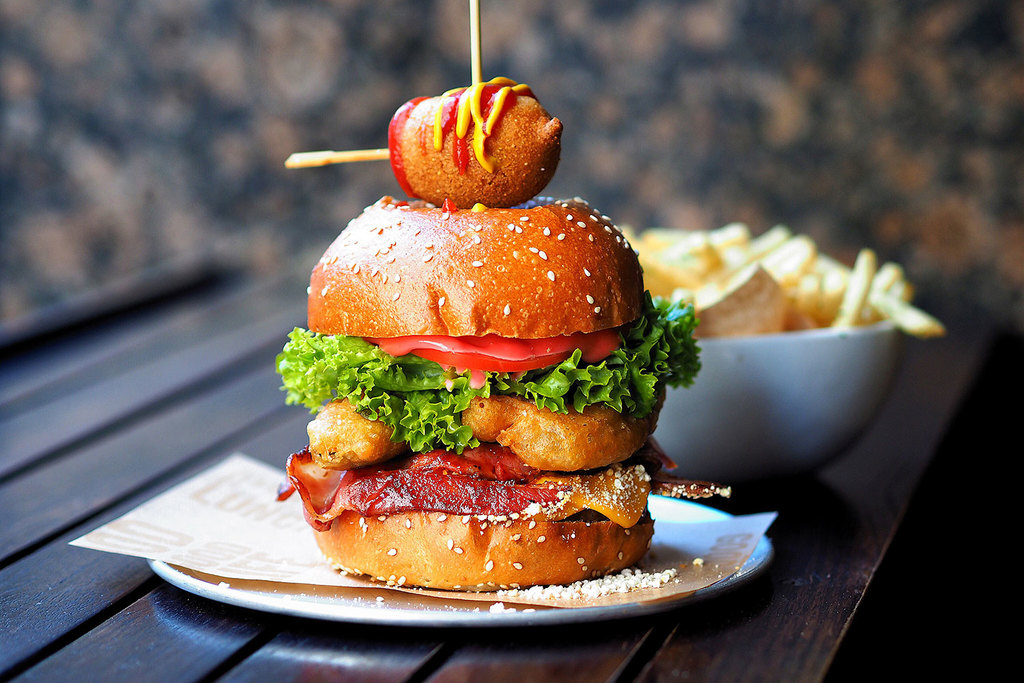Hamburger: (276, 73, 732, 592)
